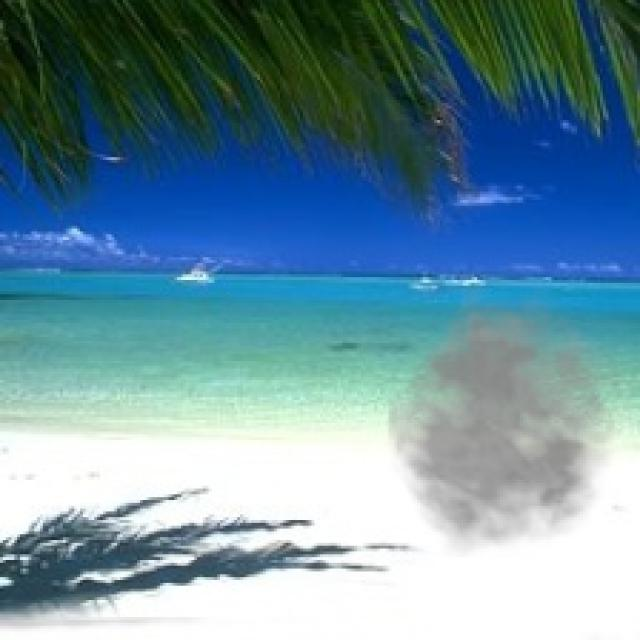smoke: (386, 280, 637, 557)
